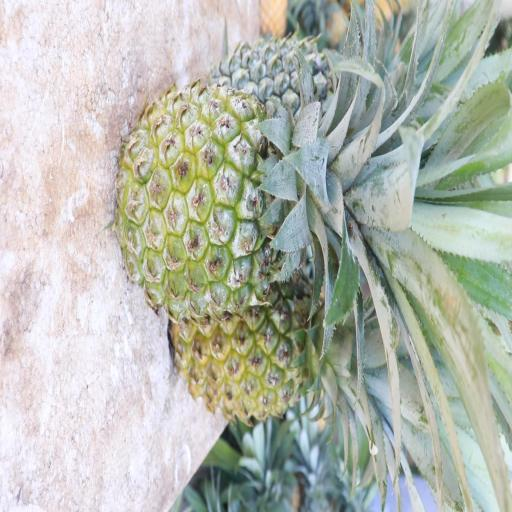------------------------------: (112, 72, 413, 323)
Pineapple - v8 v1: (166, 237, 402, 435)
